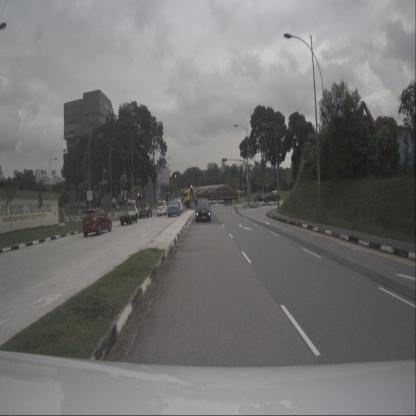vehicle-car: (82, 208, 112, 238), (196, 198, 212, 222), (167, 200, 181, 218), (157, 200, 169, 217), (139, 203, 152, 218), (175, 200, 184, 214), (255, 195, 265, 202)
vehicle-truck: (183, 184, 238, 208), (117, 198, 139, 226), (264, 190, 281, 203)
